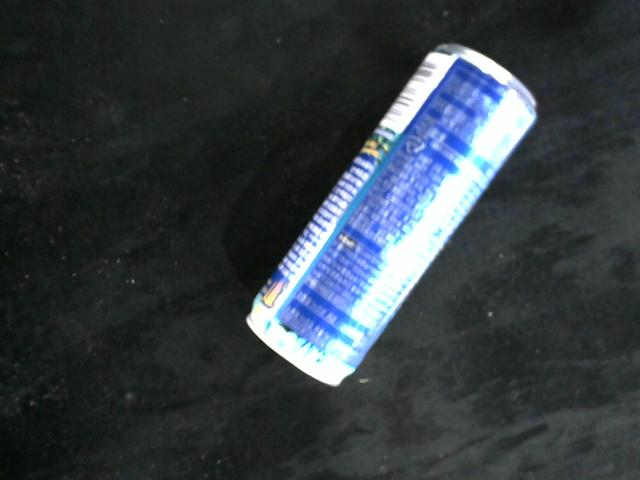can: (242, 42, 542, 390)
